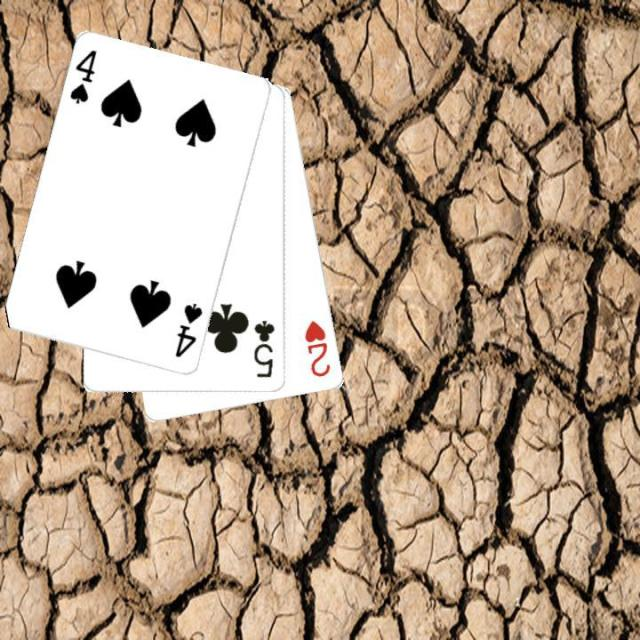2H: (302, 316, 334, 379)
4S: (66, 46, 100, 107), (172, 300, 204, 360)
5C: (250, 318, 276, 380)
